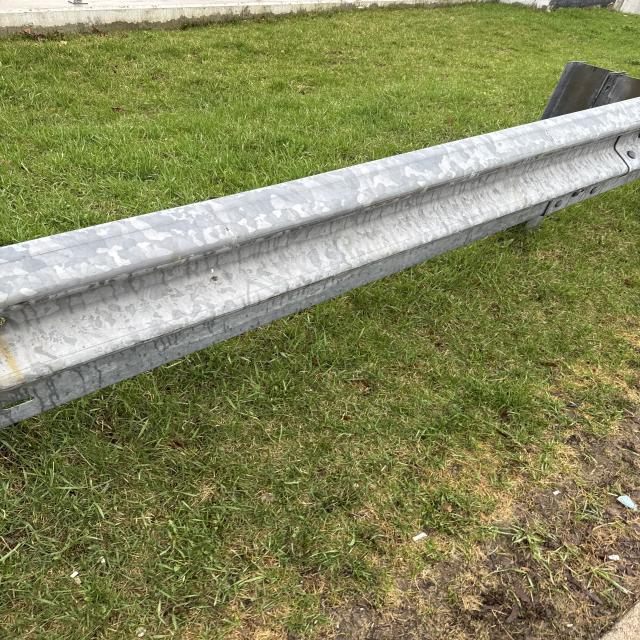Guard rail: (34, 86, 640, 382)
